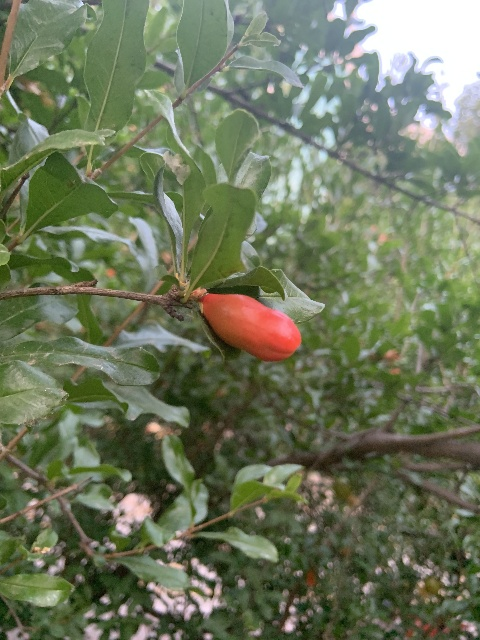bud: (202, 292, 301, 362)
mid-growth: (333, 475, 361, 510), (416, 578, 441, 601)
